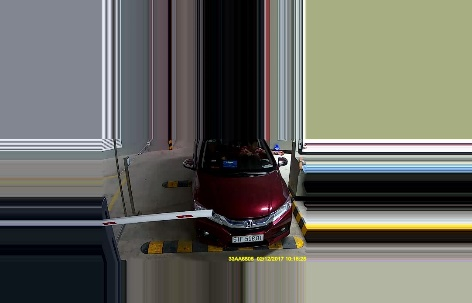plate: (229, 229, 267, 244)
